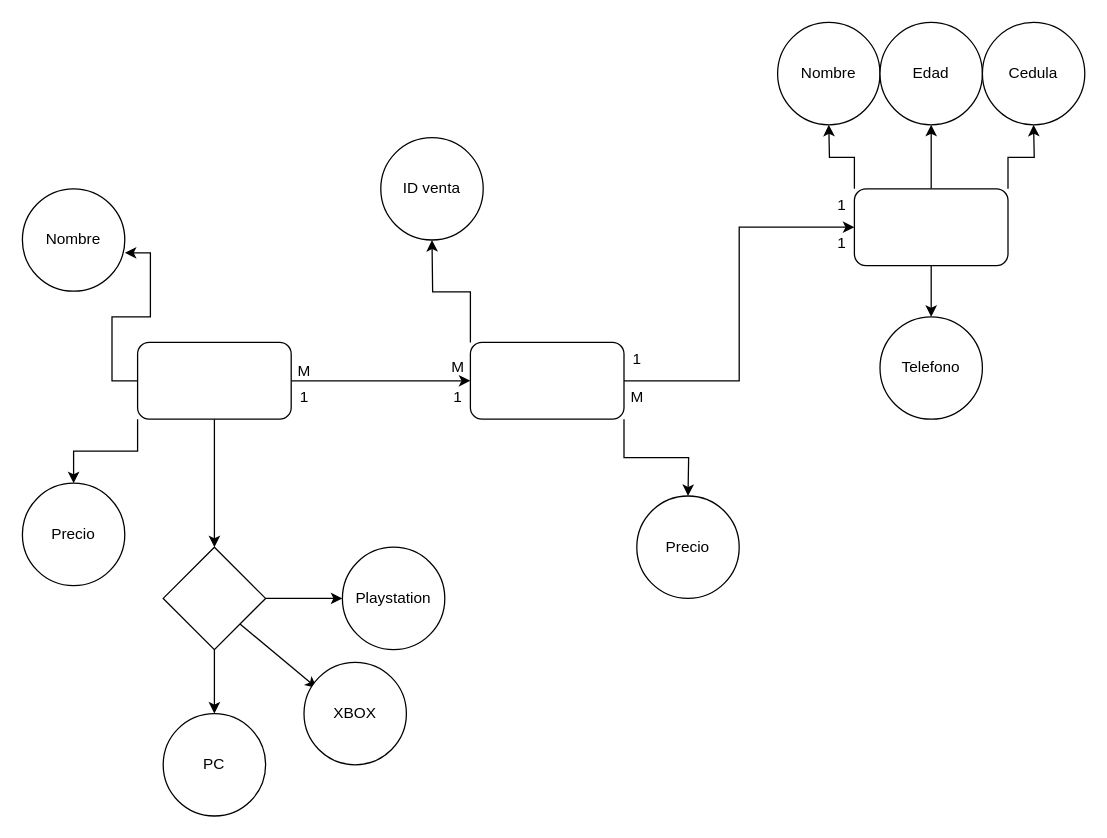
Some shapes in this 1107 by 838 pixel diagram are drawn without their labels. Here are the shapes that lost their labels. From the top down, the centre of each, then its label:
At pixel 930 227: "Cliente".
At pixel 213 380: "Videojuegos".
At pixel 546 380: "Venta".
At pixel 214 598: "Plataforma".
